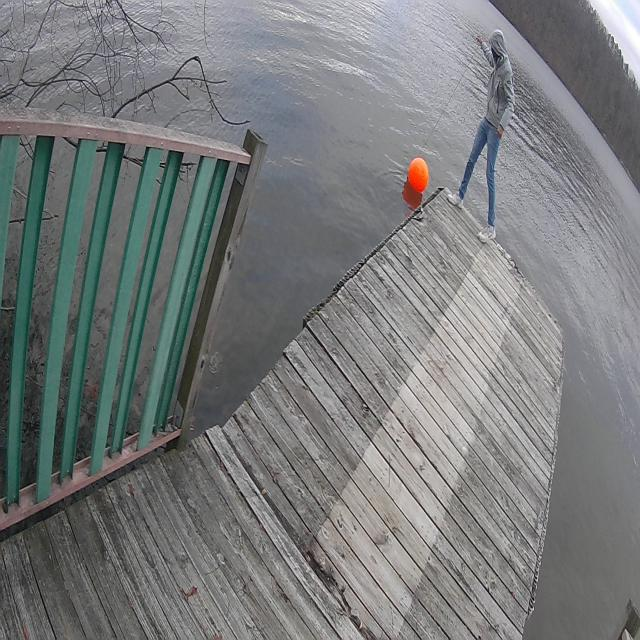Buoy: (407, 152, 431, 200)
